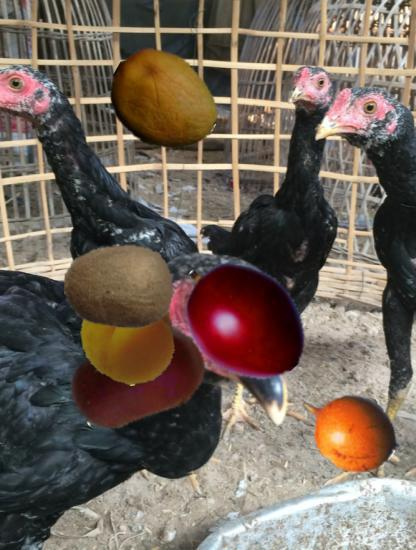Granadilla: (294, 375, 400, 481)
Kiwi: (64, 231, 175, 342)
Nectarine: (71, 311, 207, 447)
Papaya: (107, 44, 221, 158)
Peach: (77, 286, 177, 386)
Tamarillo: (172, 249, 314, 391)
